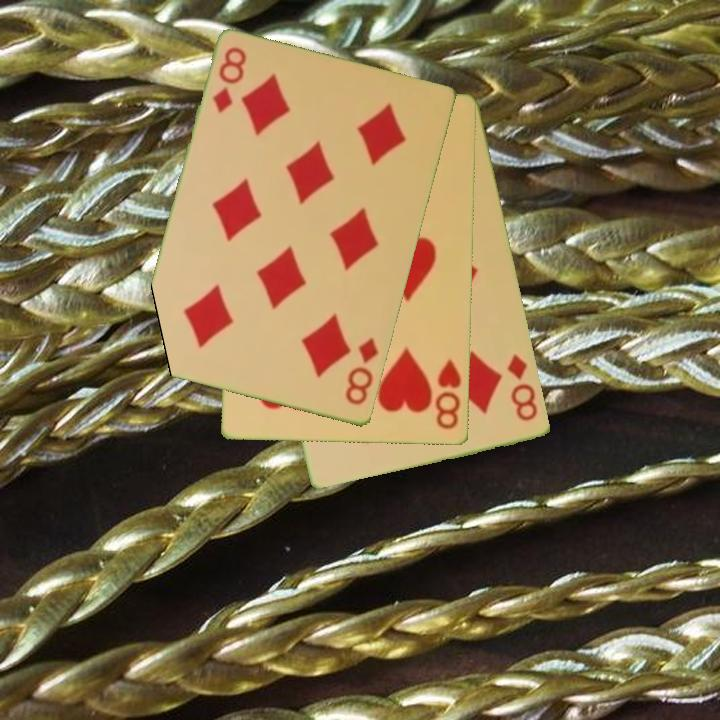8d: (342, 335, 382, 409), (209, 44, 250, 116), (504, 351, 541, 425)
8h: (432, 356, 465, 433)
